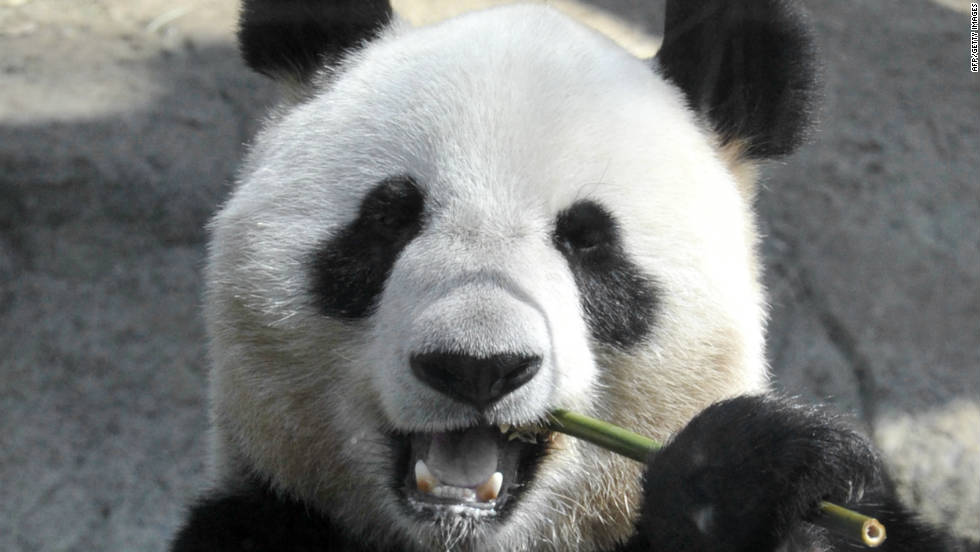panda: (194, 14, 799, 552)
